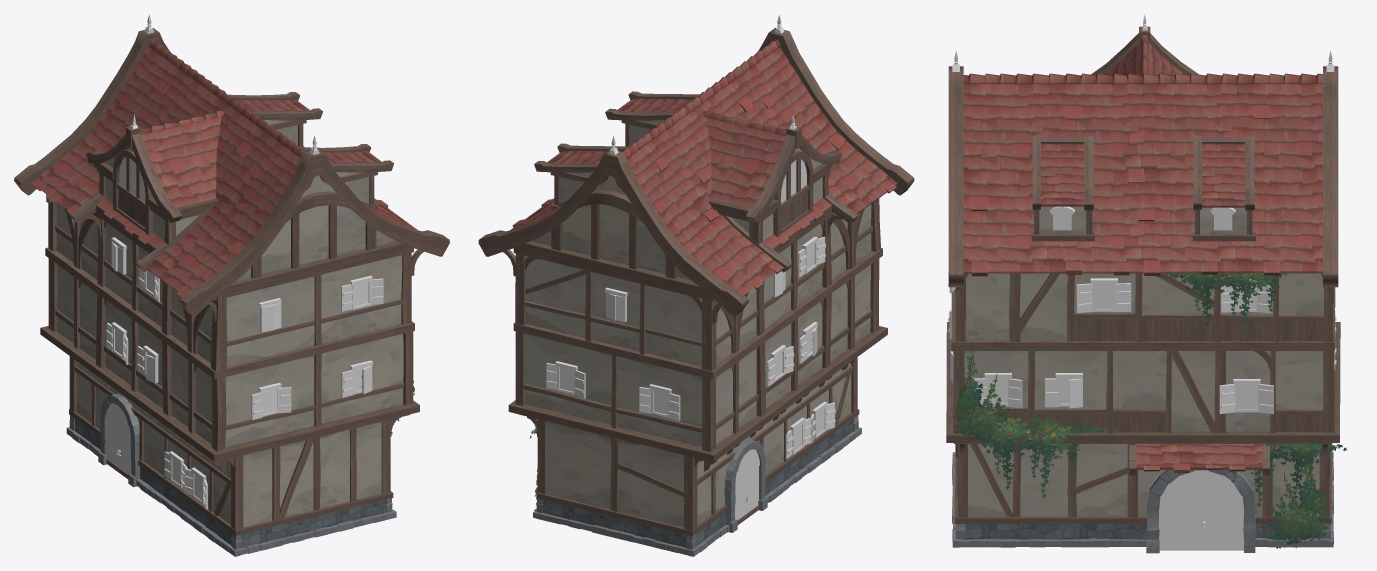
Rendered from House1.fbx.
3 views of the same model, side by side, from view 1: azimuth 30°, elevation 25°; view 2: azimuth 150°, elevation 25°; view 3: azimuth 270°, elevation 25° (orthographic). The views are drawn at different scales.
Visible parts, largest first — view 1: Mondstadt_House_Type04; view 2: Mondstadt_House_Type04; view 3: Mondstadt_House_Type04.
Boxes of the visible parts, bbox=[...] form: Mondstadt_House_Type04: bbox=[14, 14, 449, 556]; Mondstadt_House_Type04: bbox=[478, 14, 914, 556]; Mondstadt_House_Type04: bbox=[946, 14, 1346, 553].
Size of the model in its own units: 1392 by 2071 by 1697.
